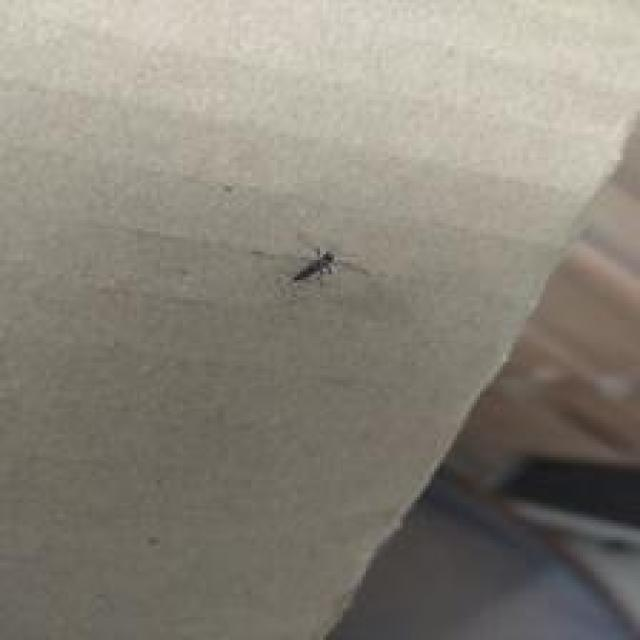Aedes albopictus: (288, 244, 368, 287)
